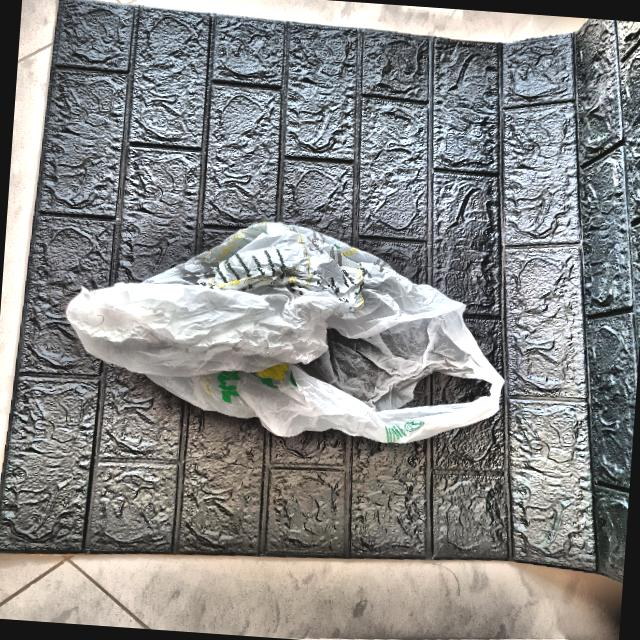plastic bag: (56, 200, 530, 469)
